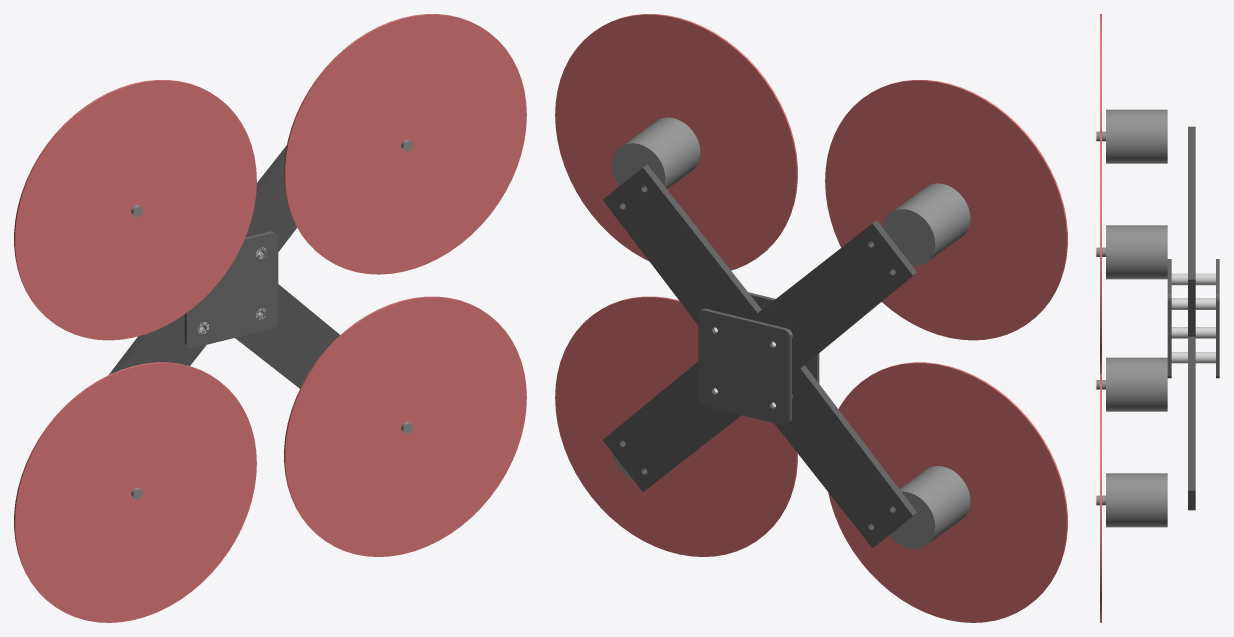
Rendered from drone.glb.
3 renders of one model, left to right at view 1: azimuth 30°, elevation 25°; view 2: azimuth 150°, elevation 25°; view 3: azimuth 270°, elevation 25°, orthographic. The views are drawn at different scales.
Visible parts, largest first — view 1: PropDisc_3_part, PropDisc_4_part, PropDisc_1_part, PropDisc_2_part, TopPlate_part, Arm_4_part, Arm_1_part, Arm_3_part; view 2: PropDisc_2_part, PropDisc_3_part, PropDisc_1_part, PropDisc_4_part, Arm_2_part, Arm_3_part, Arm_1_part, BottomPlate_part, Arm_4_part, Motor_2_part, Motor_3_part, Motor_1_part; view 3: Motor_2_part, Motor_4_part, Motor_1_part, Motor_3_part, Arm_4_part, Arm_1_part, Arm_2_part, TopPlate_part, PropDisc_1_part, PropDisc_4_part, Standoff_2_part, BottomPlate_part (+4 smaller).
Part boxes in pixels (<box>): PropDisc_3_part: <box>14,362,256,622</box>; PropDisc_4_part: <box>284,296,526,556</box>; PropDisc_1_part: <box>284,14,526,274</box>; PropDisc_2_part: <box>14,80,256,340</box>; TopPlate_part: <box>184,231,278,348</box>; Arm_4_part: <box>235,284,339,388</box>; Arm_1_part: <box>245,145,296,251</box>; Arm_3_part: <box>109,314,206,374</box>; PropDisc_2_part: <box>825,80,1067,340</box>; PropDisc_3_part: <box>828,362,1067,622</box>; PropDisc_1_part: <box>555,14,797,270</box>; PropDisc_4_part: <box>555,296,797,556</box>; Arm_2_part: <box>750,220,916,374</box>; Arm_3_part: <box>774,365,916,547</box>; Arm_1_part: <box>603,164,764,324</box>; BottomPlate_part: <box>698,308,791,425</box>; Arm_4_part: <box>602,361,741,491</box>; Motor_2_part: <box>882,183,970,266</box>; Motor_3_part: <box>889,466,970,548</box>; Motor_1_part: <box>612,117,700,188</box>; Motor_2_part: <box>1096,109,1167,163</box>; Motor_4_part: <box>1096,473,1167,527</box>; Motor_1_part: <box>1096,225,1167,279</box>; Motor_3_part: <box>1096,357,1167,411</box>; Arm_4_part: <box>1188,336,1195,510</box>; Arm_1_part: <box>1188,225,1195,336</box>; Arm_2_part: <box>1188,126,1195,224</box>; TopPlate_part: <box>1167,259,1171,378</box>; PropDisc_1_part: <box>1100,129,1101,374</box>; PropDisc_4_part: <box>1100,377,1101,622</box>; Standoff_2_part: <box>1171,273,1215,285</box>; BottomPlate_part: <box>1216,259,1219,378</box>.
Size of the model in its own units: 269 by 269 by 64.
